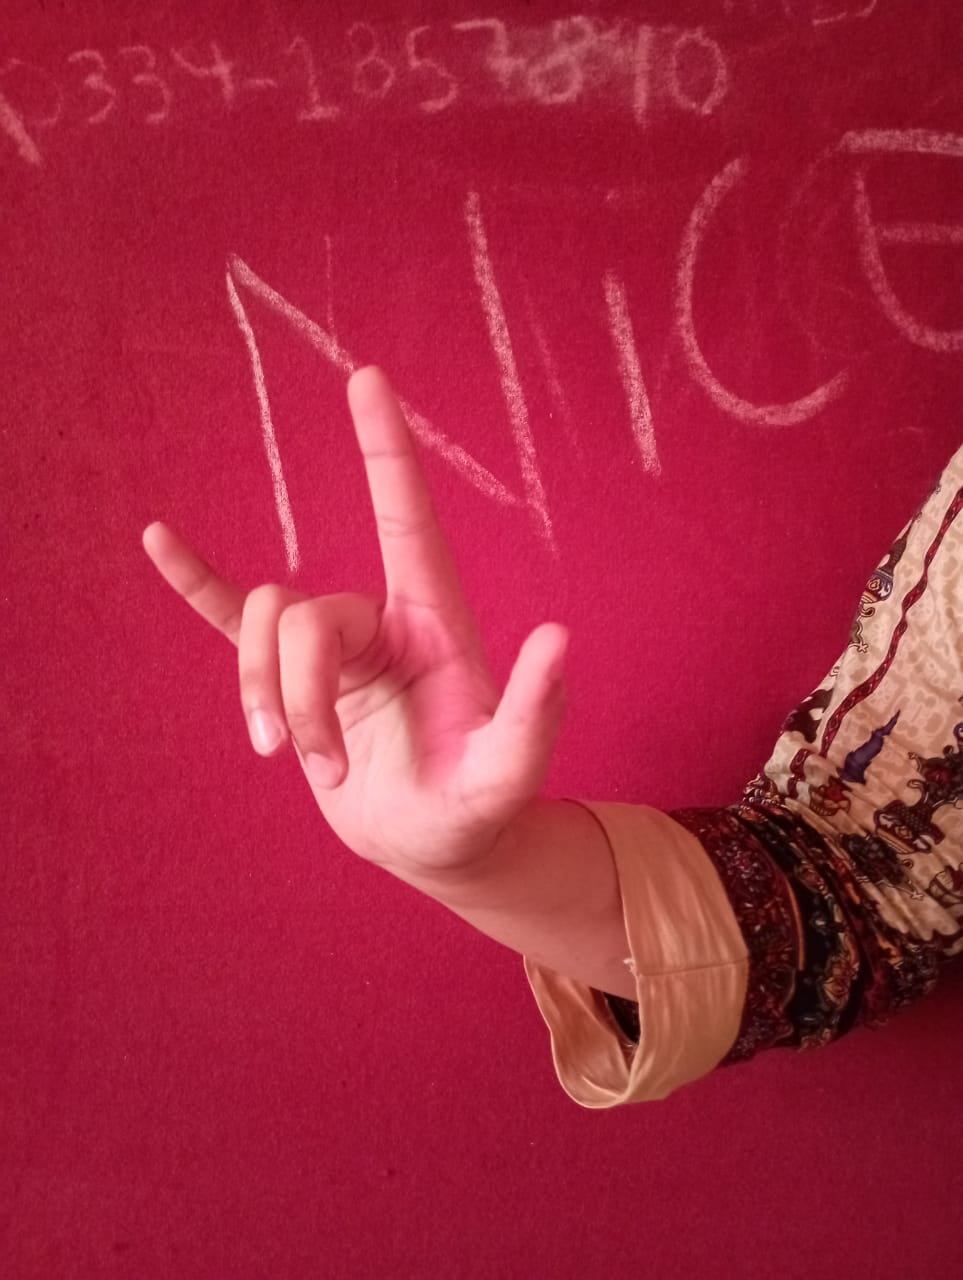Loved It: (123, 351, 572, 876)
